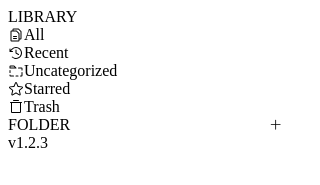
it: Create folder (AC-1) › creates a root folder via the new-folder control and reflects the returned Folder
The width and height of the screenshot is (320, 185).
Click the button named "New folder" at point(275, 125), box [263,117,288,133]
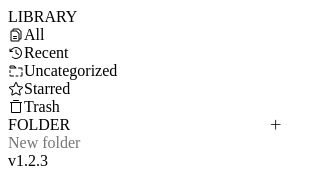
Type "Fresh Folder" into the field with placeholder "New folder" at point(148, 143), box [8,134,288,152]
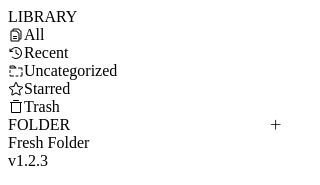
Press Enter in the field with placeholder "New folder", box [8,134,288,152]
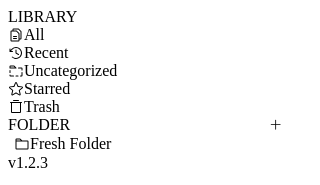
expect the button "Fresh Folder" is shown: met, box [8,134,288,154]
